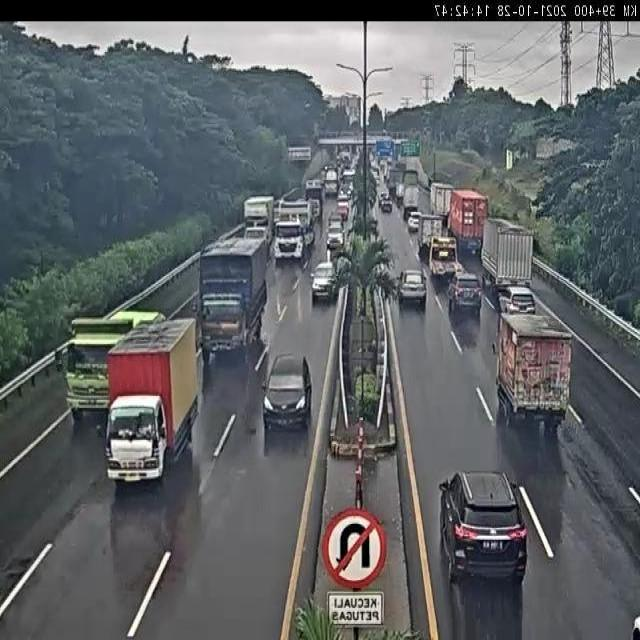Car: (436, 471, 529, 588), (260, 352, 312, 439), (448, 274, 482, 314), (497, 284, 537, 317), (310, 261, 340, 303), (396, 268, 426, 306), (325, 224, 345, 249), (407, 210, 422, 230), (380, 194, 393, 213)
Truck: (104, 314, 198, 486), (57, 308, 168, 428), (195, 234, 270, 366), (490, 314, 574, 428), (481, 215, 533, 294), (446, 186, 488, 254), (272, 202, 314, 262), (243, 195, 275, 252), (428, 180, 455, 222), (304, 185, 323, 219), (404, 184, 421, 217), (323, 163, 340, 194), (224, 371, 232, 372)
